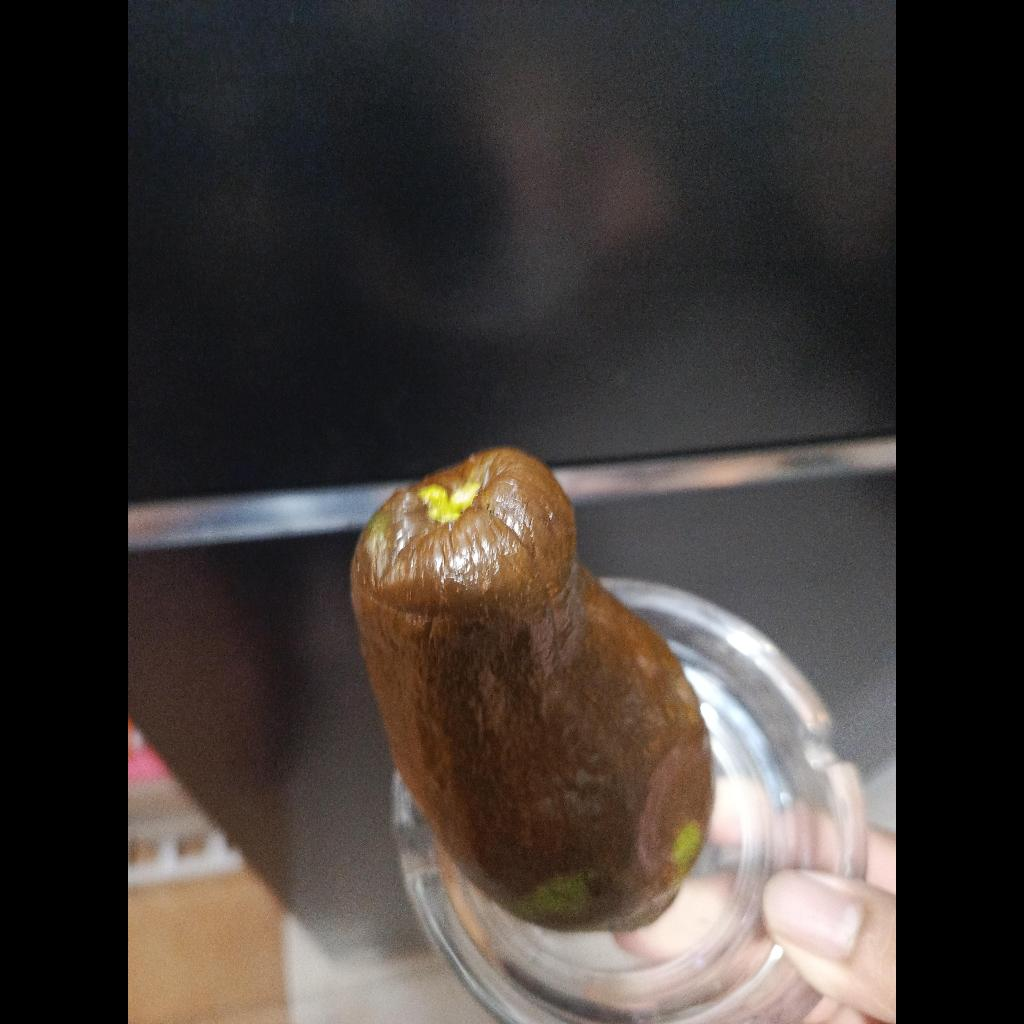stem end rot: (350, 448, 714, 931)
